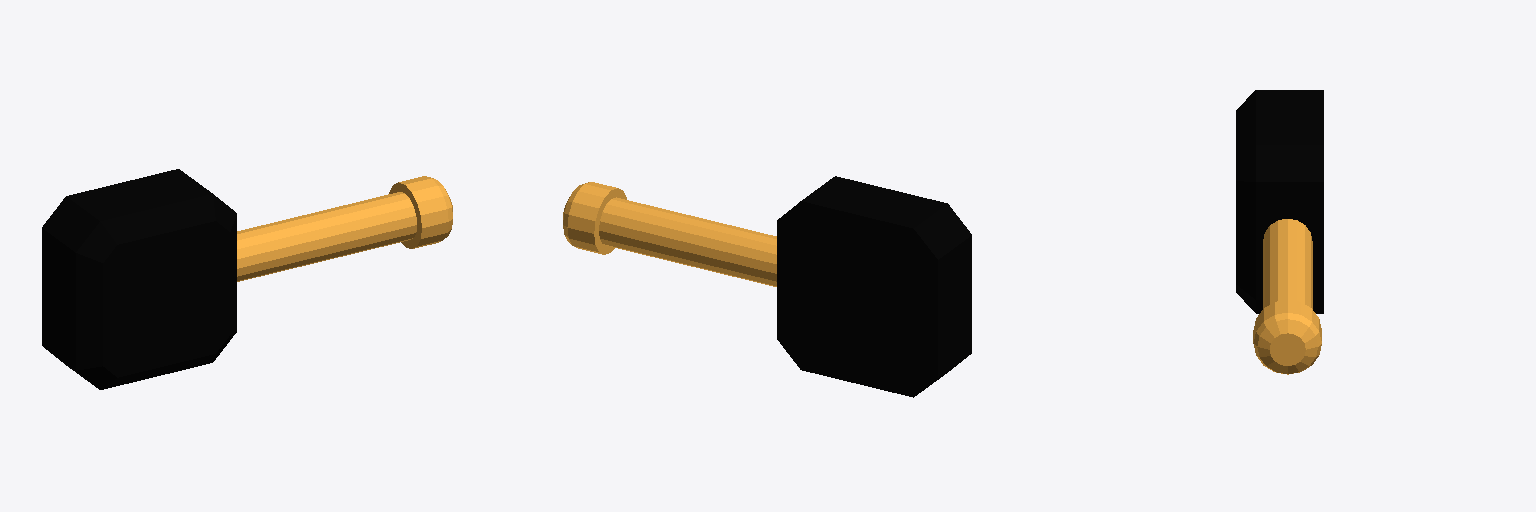
File: tank_gray_turret.obj
3 renders of one model, left to right at view 1: azimuth 30°, elevation 25°; view 2: azimuth 150°, elevation 25°; view 3: azimuth 270°, elevation 25°, orthographic.
Parts seen in each view (by area): view 1: tank_head_exit.005; view 2: tank_head_exit.005; view 3: tank_head_exit.005.
Part boxes in pixels (x1,y1,x2,y2): tank_head_exit.005: (42,169,452,389); tank_head_exit.005: (563,176,971,397); tank_head_exit.005: (1236,90,1323,374).
Bounding box in the file's own units: 47.6 × 20 × 9.49.